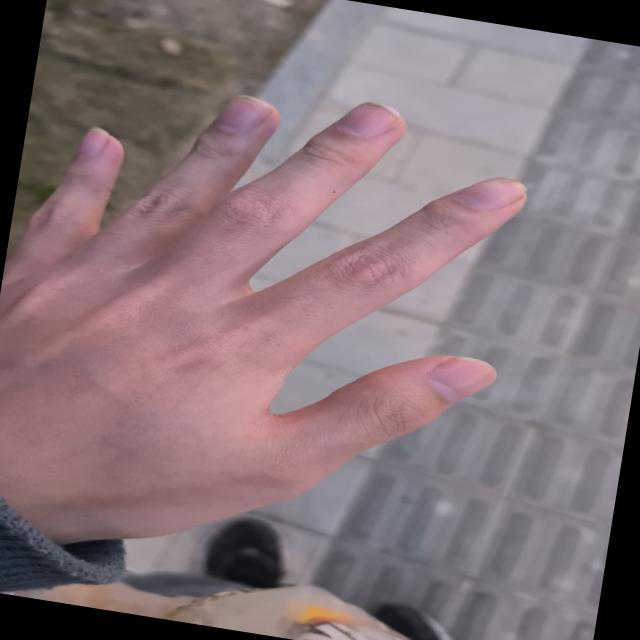Nail: (427, 358, 498, 402), (337, 102, 399, 139), (456, 178, 526, 210), (216, 95, 271, 133), (79, 128, 109, 159)
